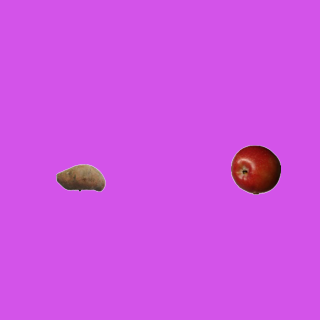Apple Braeburn: (230, 144, 280, 194)
Potato Sweet: (55, 152, 105, 202)
